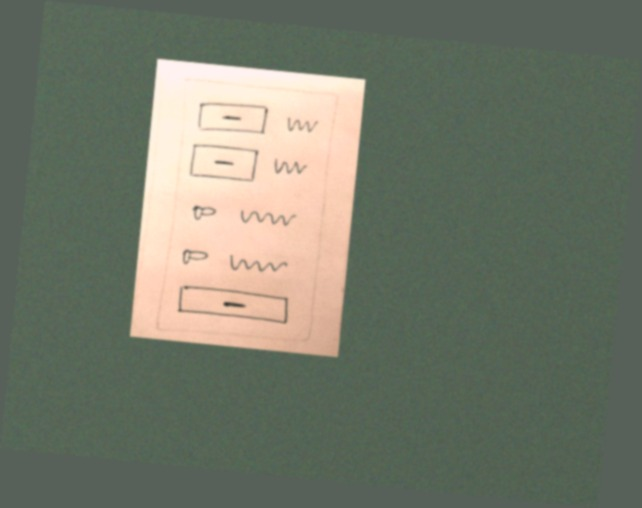button: (176, 281, 292, 330), (187, 141, 261, 188), (195, 97, 271, 139)
switch: (177, 245, 214, 272), (187, 199, 219, 223)
text: (224, 252, 292, 281), (238, 203, 297, 230), (267, 153, 310, 182), (281, 112, 320, 138)
